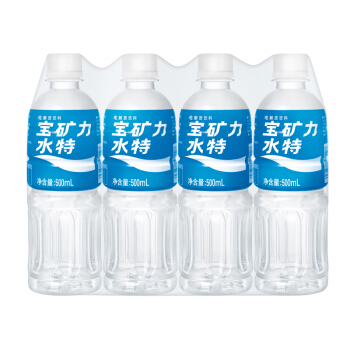POCARI SWEAT: (173, 51, 250, 296), (253, 52, 328, 296), (28, 52, 101, 292), (102, 51, 174, 293)
